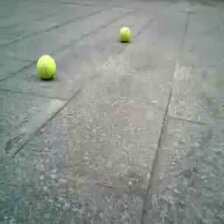tennis: (36, 54, 56, 78), (118, 27, 132, 42)
